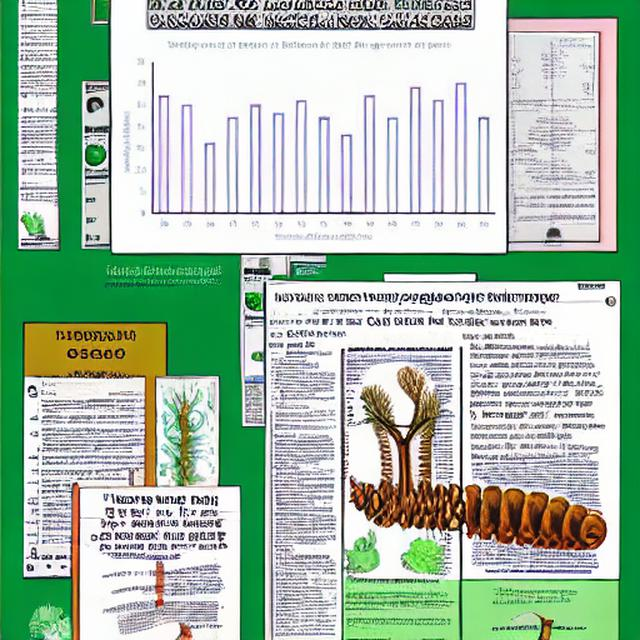Graph: (113, 33, 504, 250)
